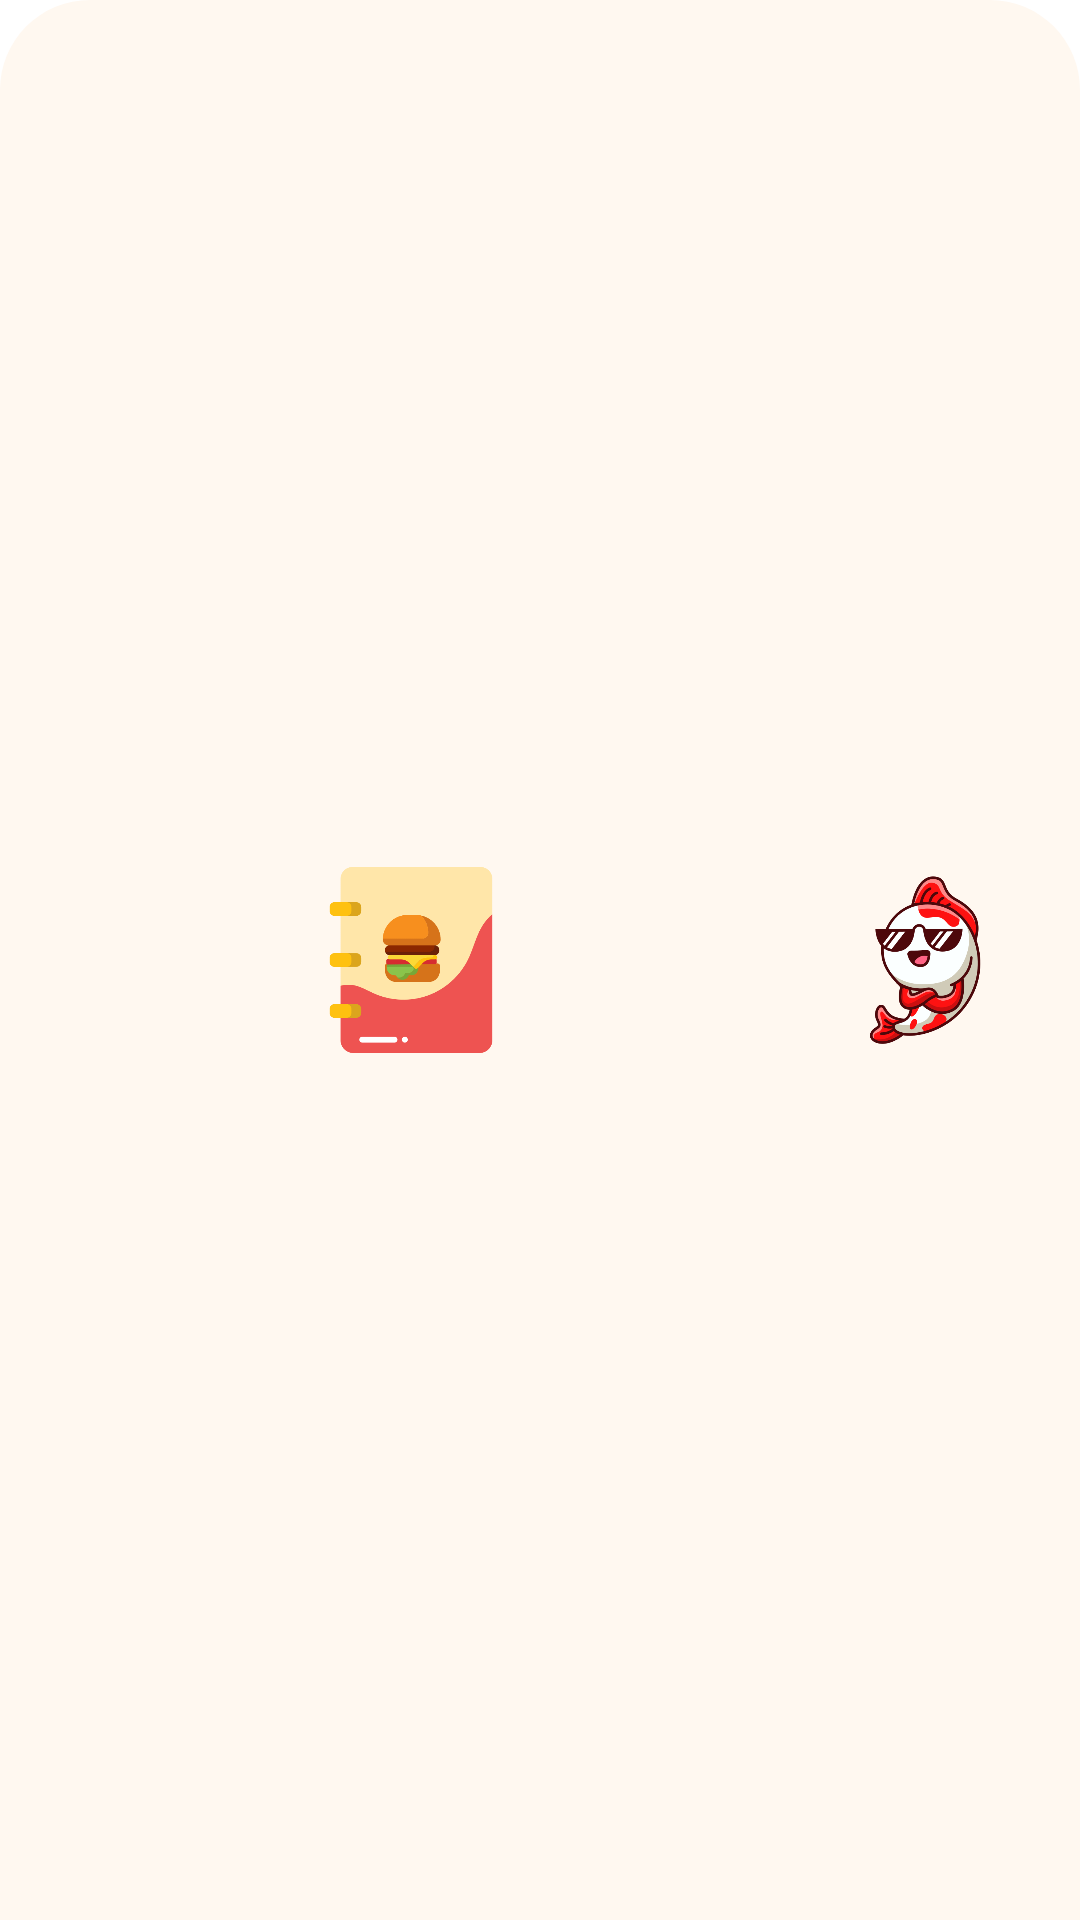

Icons on this 1080×1920 Android screen, each with its box as (x1, y1, x2, y2):
Menu: (329, 867, 492, 1053)
